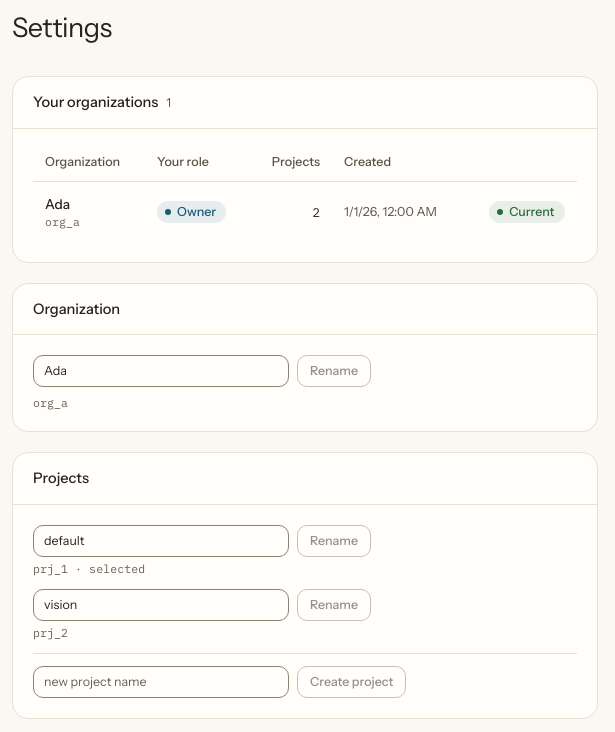
Test: renaming › shows why an org rename failed when the API is down
The width and height of the screenshot is (615, 732).
Replace the text in the field named "Organization name" with "Ada Lab": (161, 371) [33,355,289,387]
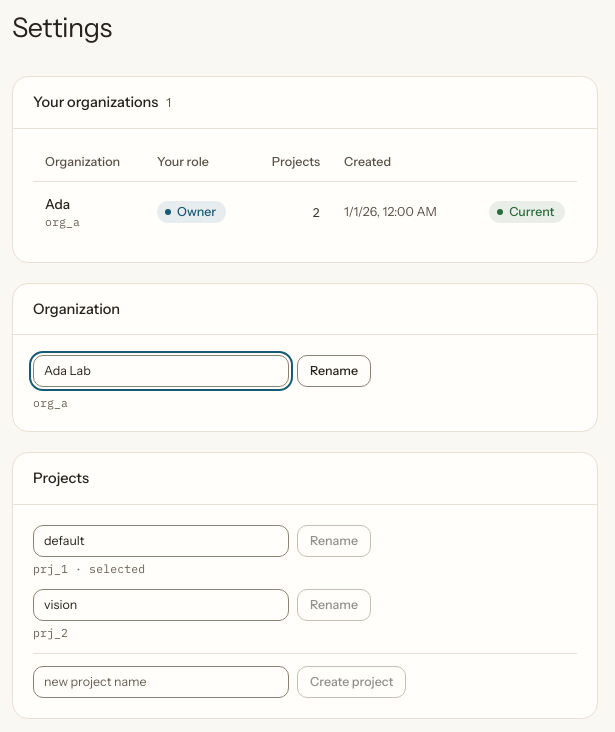
Click the 1st button "Rename": (334, 371) [297,355,371,387]
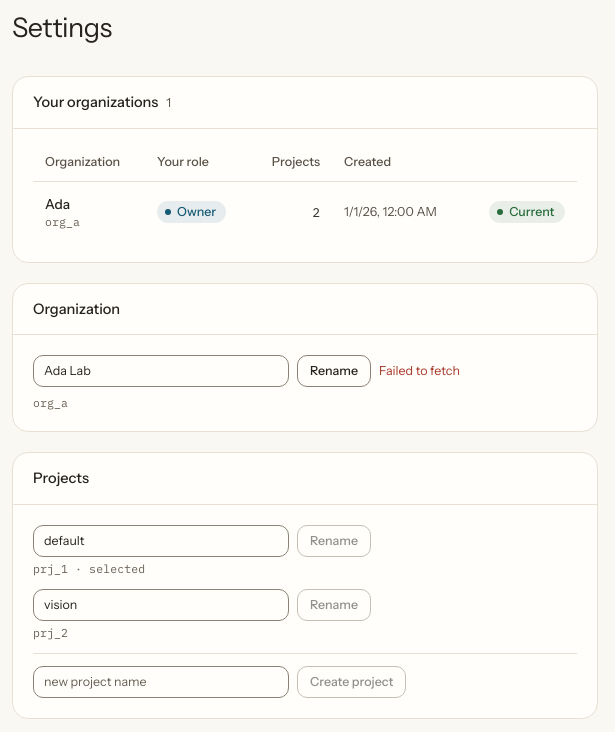
Now the text "Failed to fetch" is shown, box [379,362,460,380]
